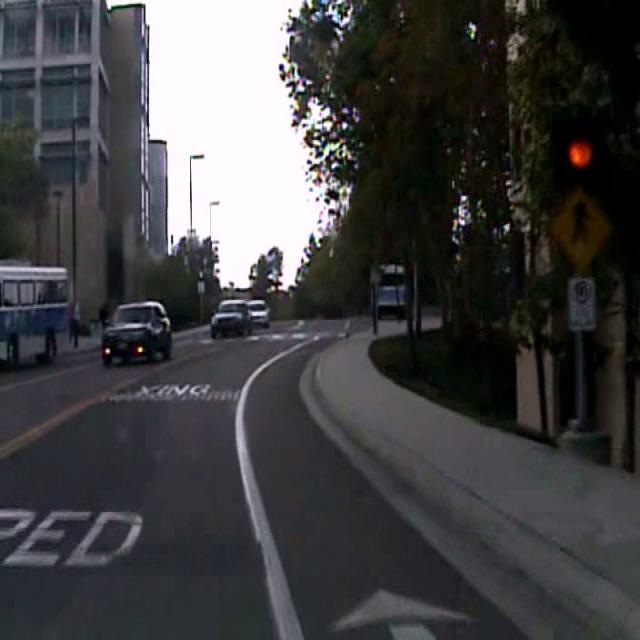pedestrianCrossing: (549, 183, 610, 273)
